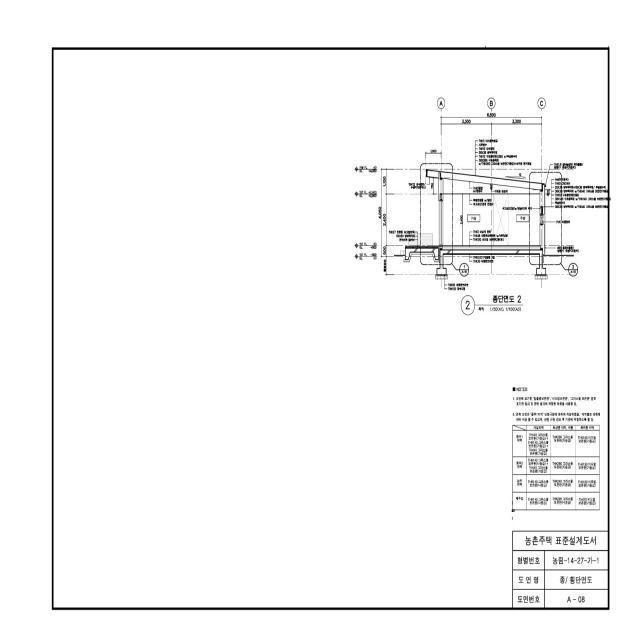space_kitchen: (491, 184, 540, 250)
space_living_room: (443, 179, 491, 250)
